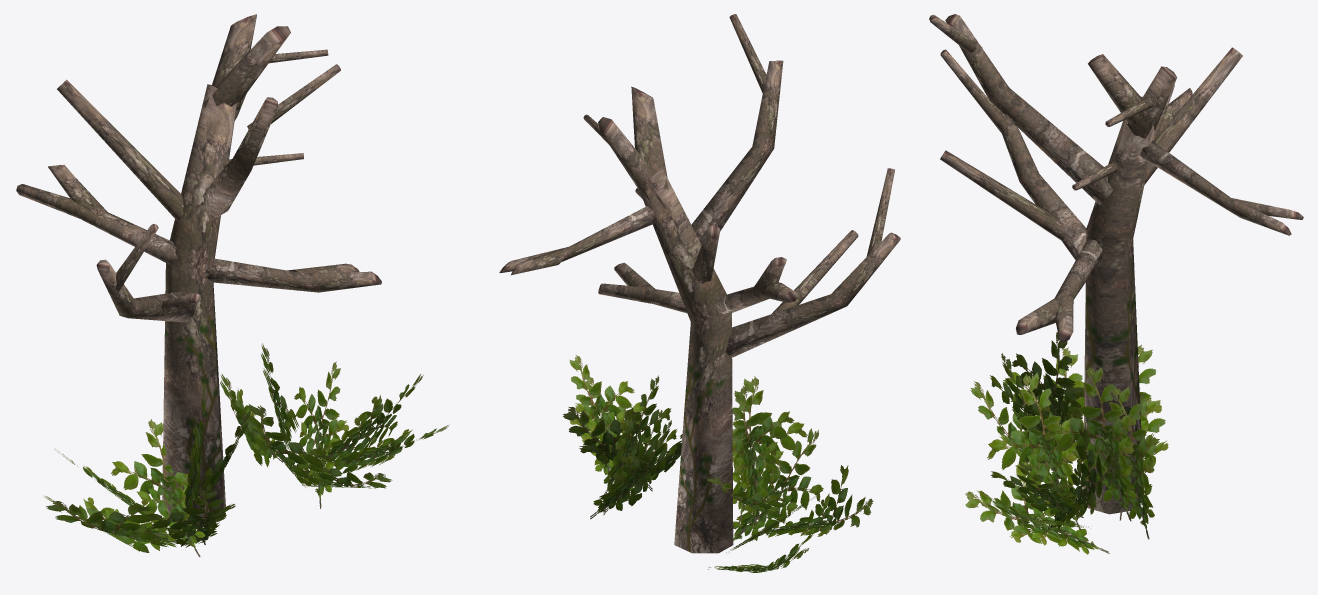
Rendered from deathtree.dae.
3 views of the same model, side by side, from view 1: azimuth 30°, elevation 25°; view 2: azimuth 150°, elevation 25°; view 3: azimuth 270°, elevation 25° (orthographic). The views are drawn at different scales.
Visible parts, largest first — view 1: Cylinder_Material.001; view 2: Cylinder_Material.001; view 3: Cylinder_Material.001.
Part boxes in pixels (bbox=[...]): Cylinder_Material.001: bbox=[16, 14, 449, 557]; Cylinder_Material.001: bbox=[499, 14, 900, 572]; Cylinder_Material.001: bbox=[929, 14, 1303, 554].
Size of the model in its own units: 4.34 by 3.41 by 5.61.
2 materials, 2 textured.
